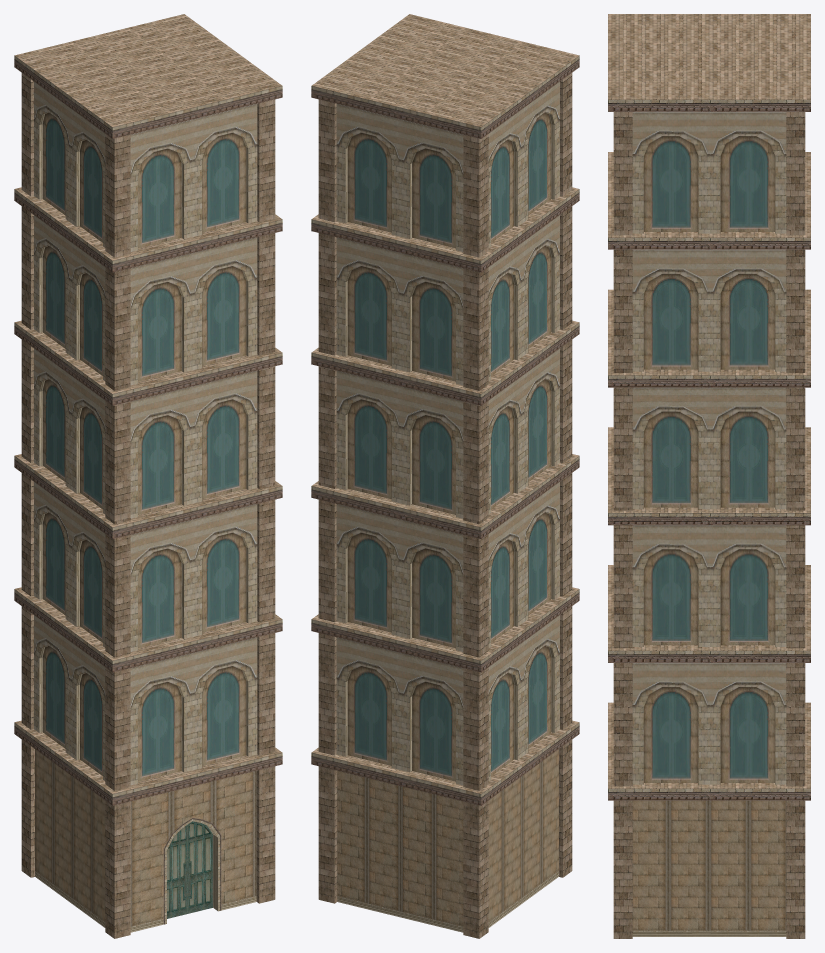
File: thm_nboo_thed_imprv_building_s08_l0.fbx
The picture shows the model from 3 angles, left to right: view 1: azimuth 30°, elevation 25°; view 2: azimuth 150°, elevation 25°; view 3: azimuth 270°, elevation 25°; orthographic projection. The views are drawn at different scales.
Parts seen in each view (by area): view 1: mesh_node; view 2: mesh_node; view 3: mesh_node.
Boxes of the visible parts, bbox=[...] form: mesh_node: bbox=[14, 14, 282, 938]; mesh_node: bbox=[311, 14, 579, 938]; mesh_node: bbox=[608, 14, 810, 938].
Size of the model in its own units: 7.27 by 33.29 by 7.27.
